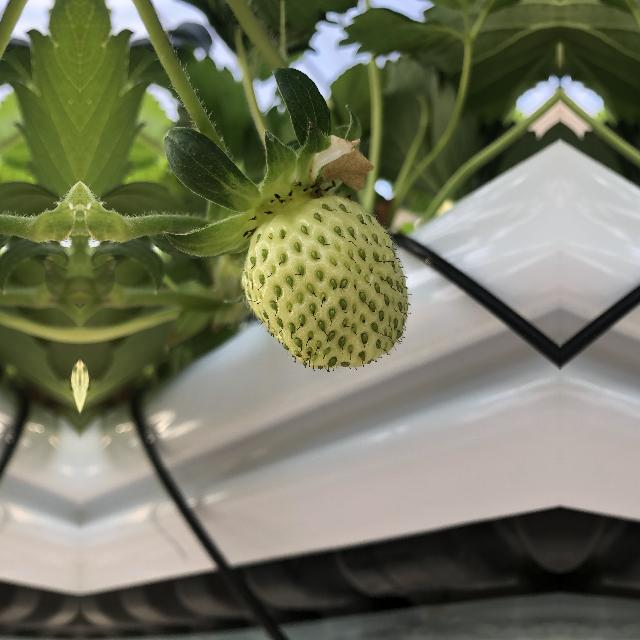Health_25: (234, 187, 414, 375)
